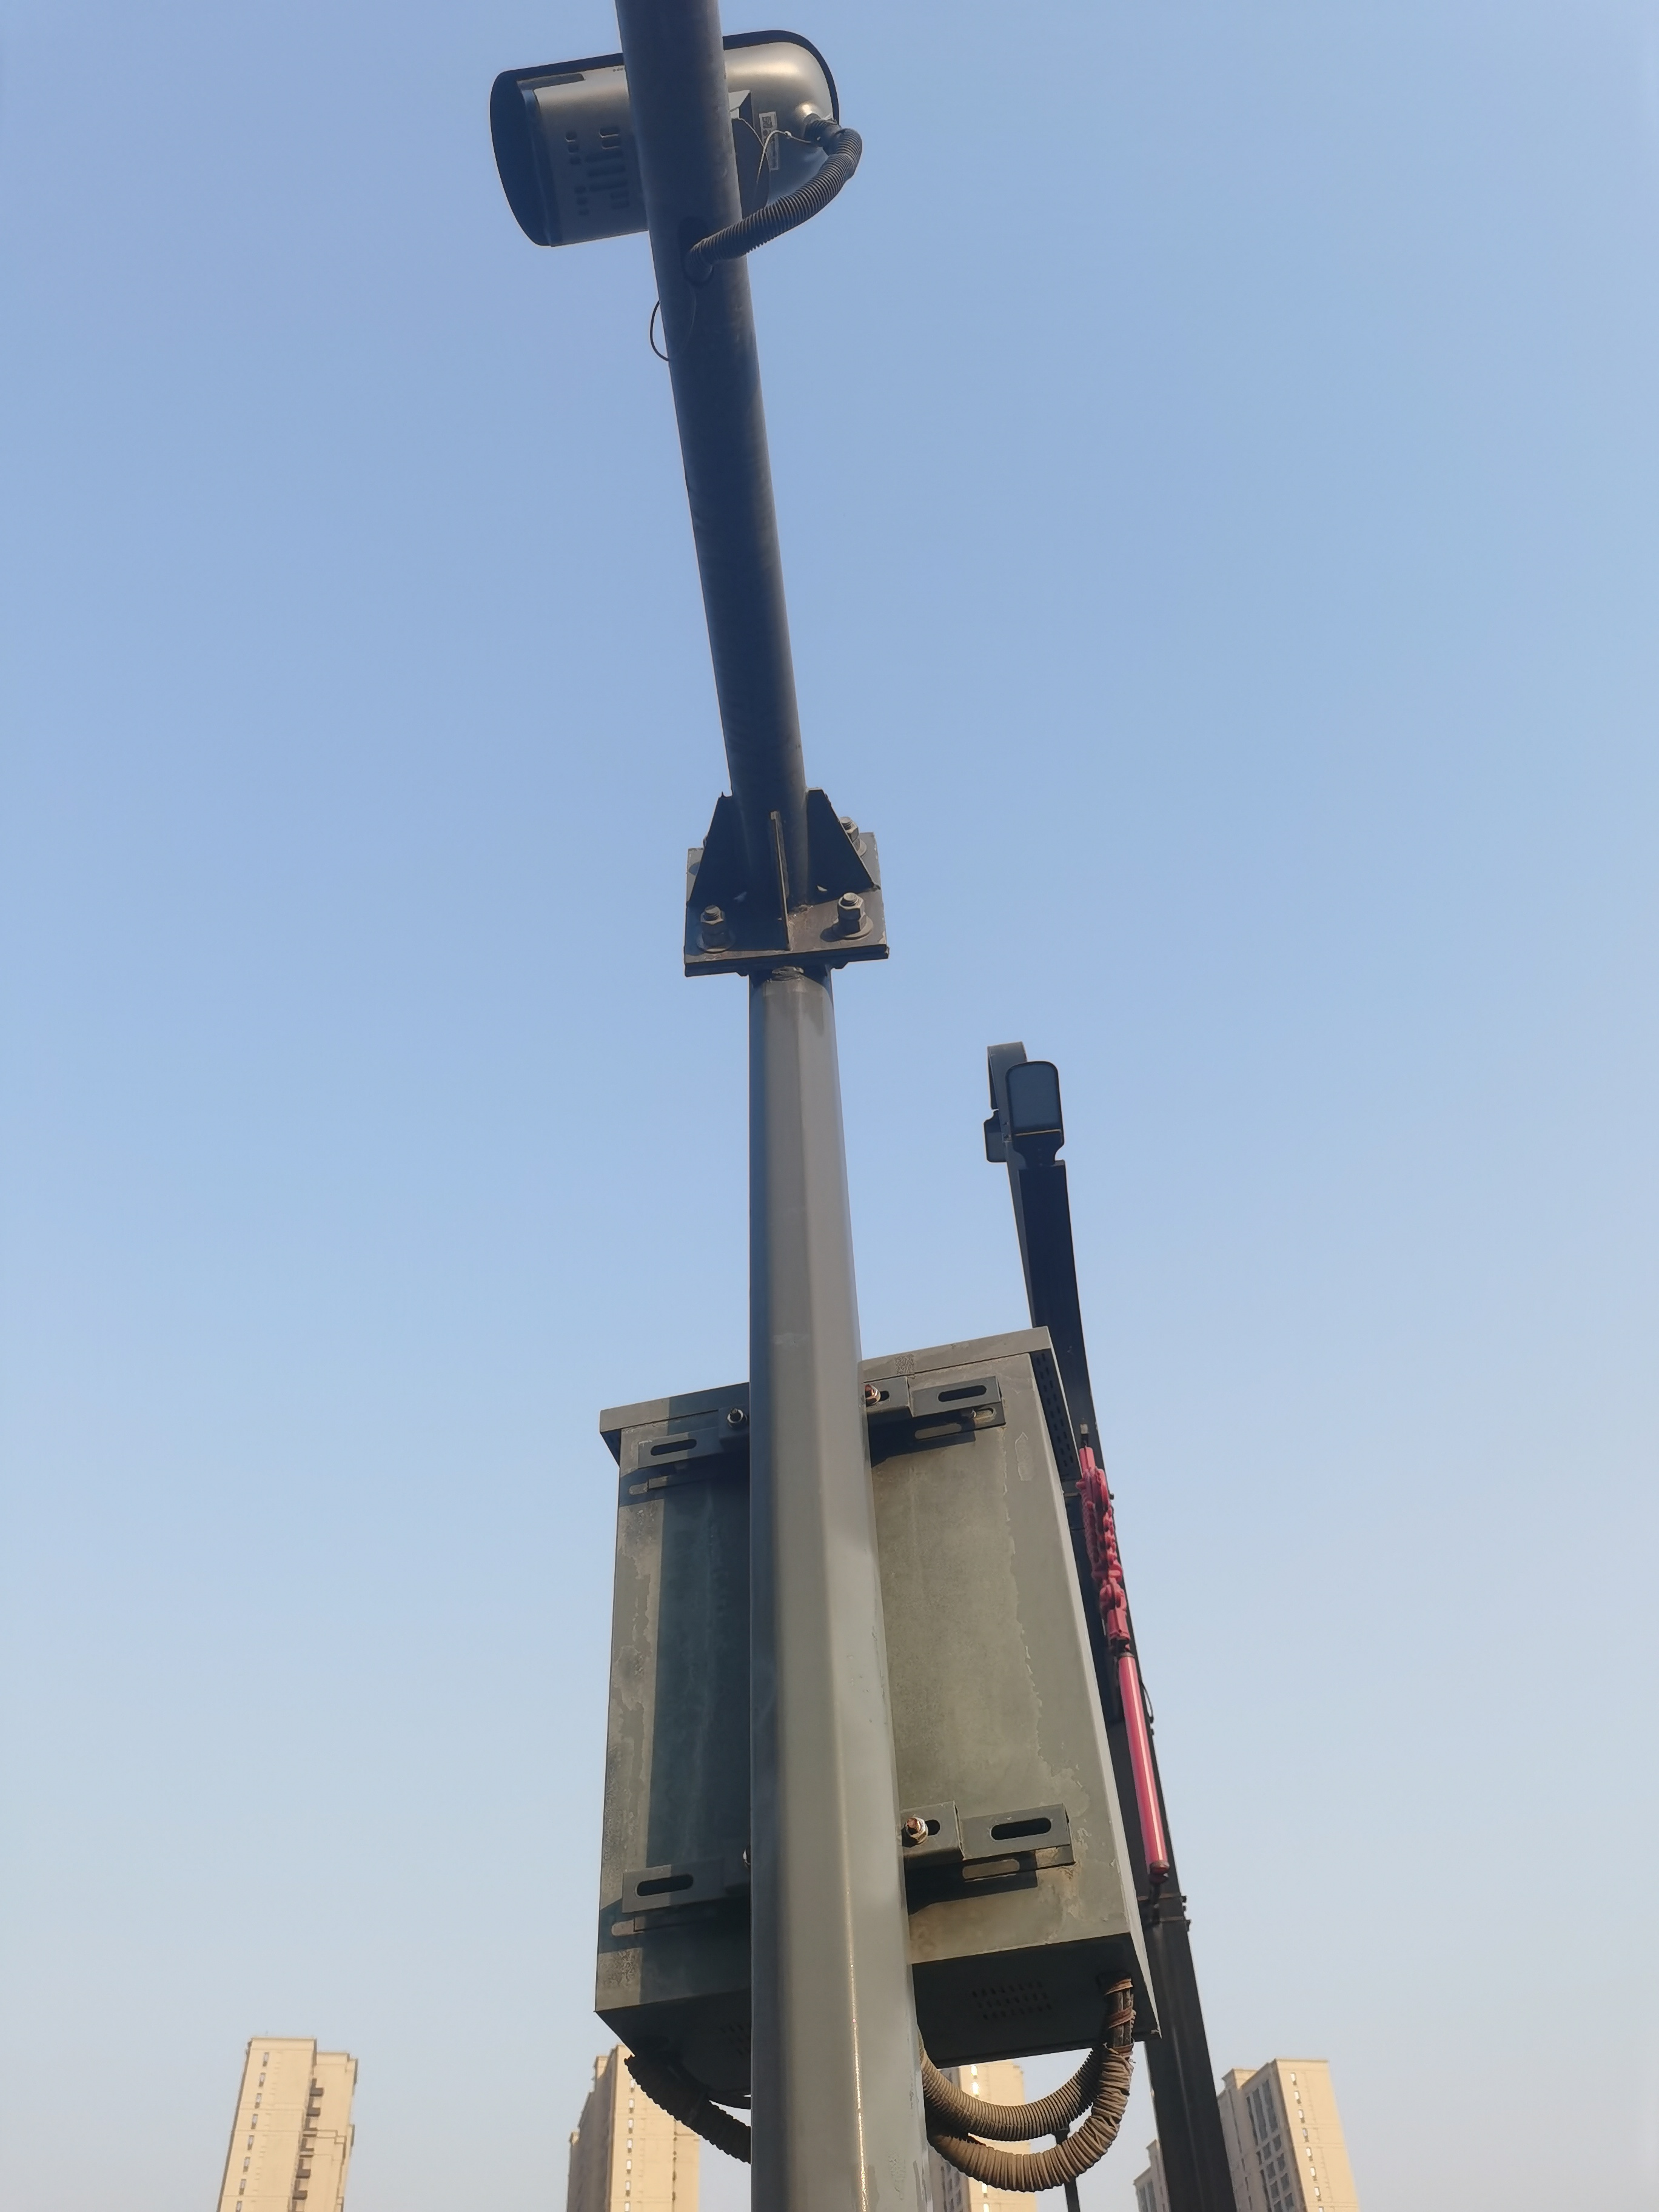bolt_b: (695, 904, 734, 934), (835, 890, 868, 921), (903, 1815, 929, 1844)
vague: (856, 1383, 884, 1406), (723, 1407, 749, 1430)
